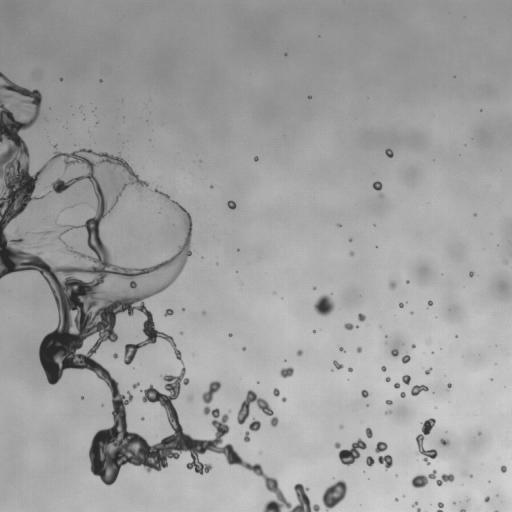droplet: (237, 390, 278, 426), (334, 438, 366, 465), (322, 480, 347, 511), (314, 295, 334, 316), (378, 454, 392, 469), (411, 384, 428, 396), (374, 441, 387, 453), (280, 367, 293, 378), (344, 323, 356, 330), (373, 181, 382, 190), (227, 200, 236, 209), (333, 361, 343, 369), (402, 374, 410, 384), (366, 456, 374, 466), (365, 427, 372, 438), (401, 355, 410, 363), (385, 149, 393, 157), (164, 309, 173, 316), (389, 281, 396, 289), (358, 313, 365, 321), (390, 349, 398, 356), (361, 389, 368, 397), (440, 439, 449, 445), (437, 502, 443, 511), (273, 388, 279, 396), (500, 465, 506, 473), (42, 231, 51, 236), (133, 382, 139, 388), (394, 382, 400, 388), (412, 501, 418, 507), (296, 350, 302, 355), (484, 496, 489, 502), (339, 347, 344, 352), (381, 366, 386, 371), (400, 392, 405, 397), (14, 104, 20, 108), (399, 302, 403, 308), (447, 383, 451, 389), (386, 400, 392, 404), (254, 156, 258, 161), (469, 271, 473, 276), (428, 300, 432, 305), (357, 347, 361, 352), (113, 353, 117, 358), (385, 377, 390, 381), (281, 397, 286, 401), (411, 344, 415, 348), (348, 367, 352, 371), (165, 215, 168, 219), (188, 397, 192, 400), (460, 509, 465, 511), (337, 224, 340, 227), (350, 252, 353, 255), (228, 333, 231, 336), (242, 347, 245, 350), (386, 411, 389, 414), (339, 425, 342, 428), (100, 79, 102, 82), (349, 239, 351, 242), (313, 330, 315, 333), (141, 417, 143, 420), (470, 474, 472, 477), (60, 78, 62, 80), (22, 108, 24, 110), (210, 185, 212, 187), (406, 281, 408, 283), (313, 287, 315, 289), (202, 312, 204, 314), (478, 432, 480, 434), (395, 498, 397, 500), (453, 502, 455, 504)
ligament: (0, 72, 319, 511), (416, 418, 437, 465), (411, 470, 454, 488), (244, 418, 260, 442), (425, 368, 431, 374), (416, 508, 422, 511)
